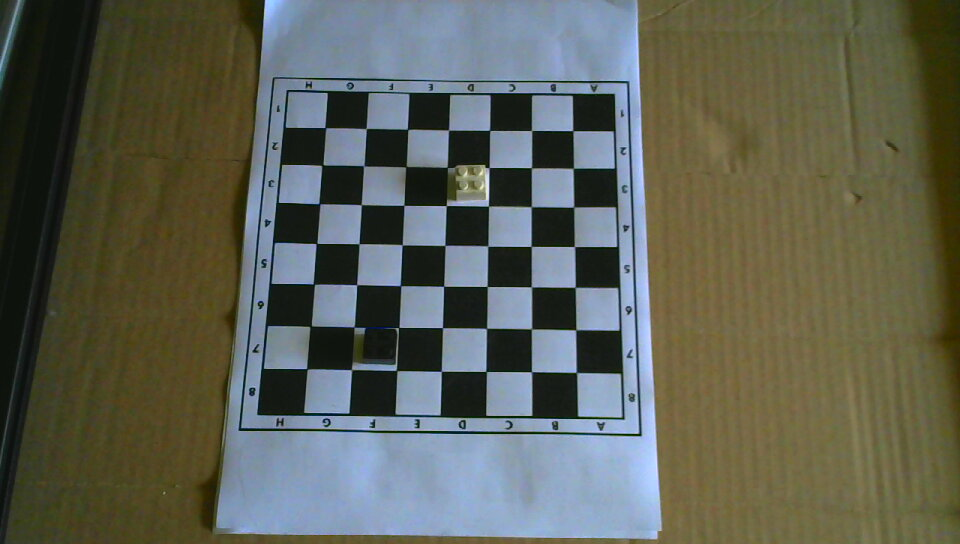bp: (362, 328, 398, 366)
wp: (454, 164, 487, 202)
